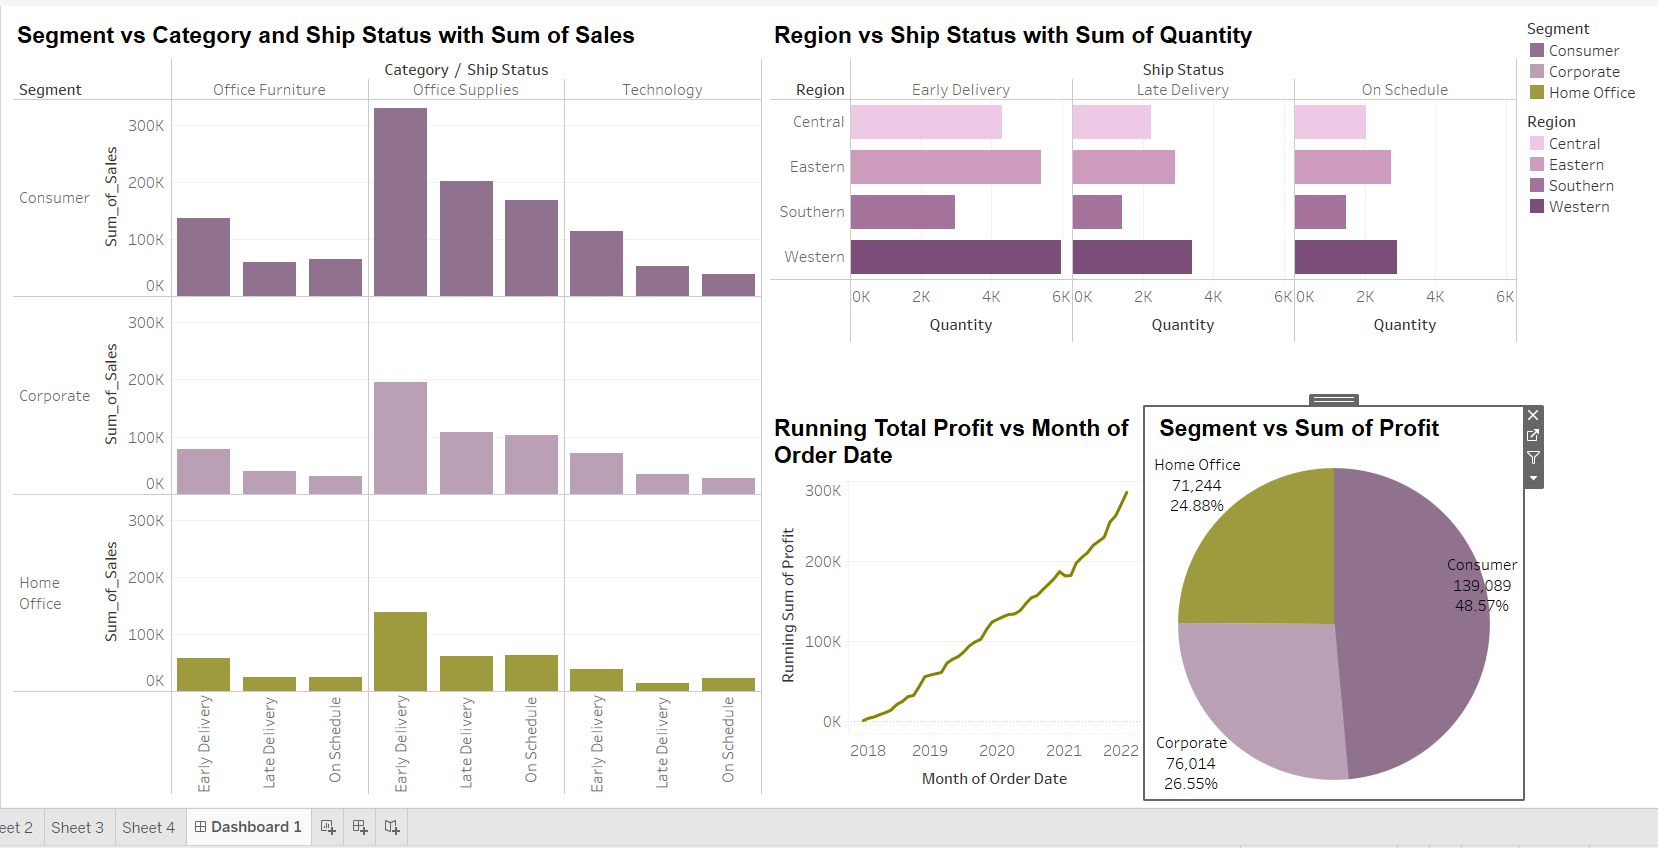

This screenshot's page, from the dashboard's own definition file:
{"tool":"tableau","page":{"name":"Dashboard 1","canvas":[1000,1000],"units":"permille","ordinal":0},"visuals":[{"type":"worksheet","title":"Sheet 1","mark":"Automatic","rows":["Segment","Calculation_692991459604869121"],"cols":["Category","Ship Status"],"box":[4.8,10,456.9,980]},{"type":"worksheet","title":"Sheet 2","mark":"Automatic","rows":["Region"],"cols":["Ship Status","Quantity"],"box":[461.7,10,456.9,490]},{"type":"legend","title":"Sheet 1","param":"[federated.1aw4yaz1ljp2eh1629qeu0w2o9s7].[none:Segment:nk]","box":[918.5,10,76.6,116.1]},{"type":"legend","title":"Sheet 2","param":"[federated.1aw4yaz1ljp2eh1629qeu0w2o9s7].[none:Region:nk]","box":[918.5,126.1,76.6,142.3]},{"type":"worksheet","title":"Sheet 3","mark":"Automatic","rows":["Profit"],"cols":["Order Date"],"box":[461.7,500,228.4,490]},{"type":"worksheet","title":"Sheet 4","mark":"Pie","box":[690.1,500,228.4,490]}]}

Visuals, with their boxes on the dashboard's canvas, which has no fixed pixel size, in thousandths of its width and height (x1, y1, x2, y2). These are canvas units, not pixel positions in the 1658x848 screenshot, which may show the page scaled, cropped or inside an application window:
"Sheet 1" worksheet: x1=5, y1=10, x2=462, y2=990
"Sheet 2" worksheet: x1=462, y1=10, x2=919, y2=500
"Sheet 1" legend: x1=918, y1=10, x2=995, y2=126
"Sheet 2" legend: x1=918, y1=126, x2=995, y2=268
"Sheet 3" worksheet: x1=462, y1=500, x2=690, y2=990
"Sheet 4" worksheet (Pie marks): x1=690, y1=500, x2=918, y2=990
